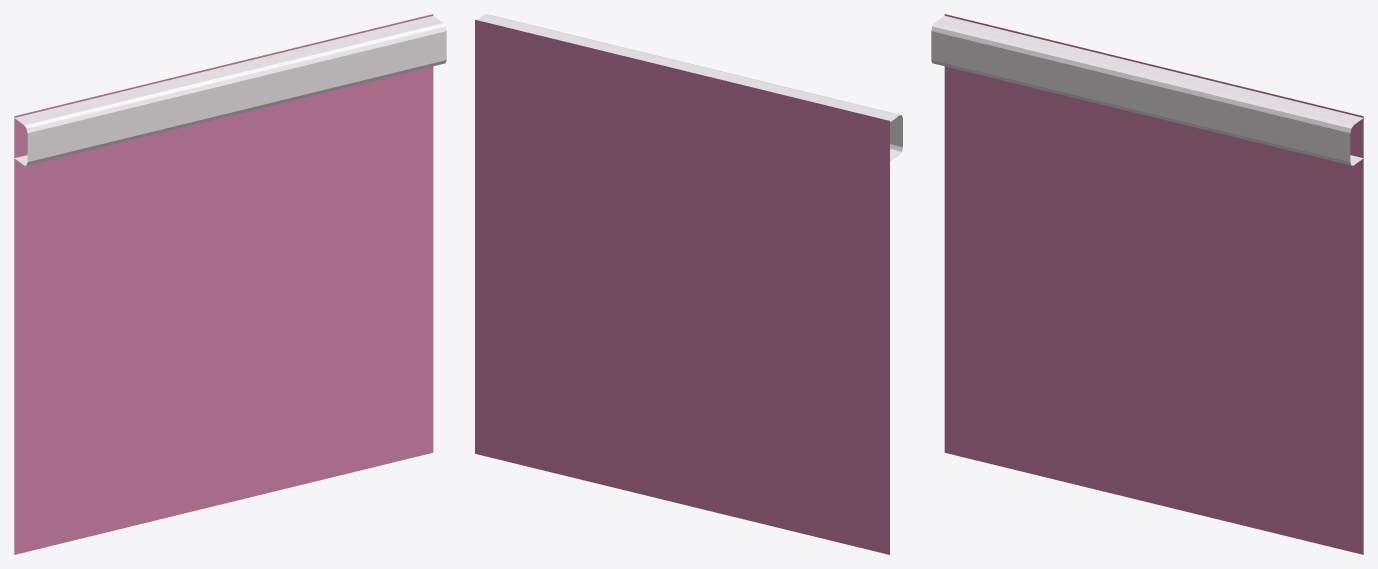
File: SM_House_Base_50CM2.fbx
The picture shows the model from 3 angles, left to right: view 1: azimuth 30°, elevation 25°; view 2: azimuth 150°, elevation 25°; view 3: azimuth 330°, elevation 25°; orthographic projection.
Visible parts, largest first — view 1: SM_House_Base_50CM2; view 2: SM_House_Base_50CM2; view 3: SM_House_Base_50CM2.
Boxes of the visible parts, <box> form: SM_House_Base_50CM2: <box>14,14,446,554</box>; SM_House_Base_50CM2: <box>475,14,902,554</box>; SM_House_Base_50CM2: <box>931,14,1363,554</box>.
Bounding box in the file's own units: 50 × 2.74 × 50.
